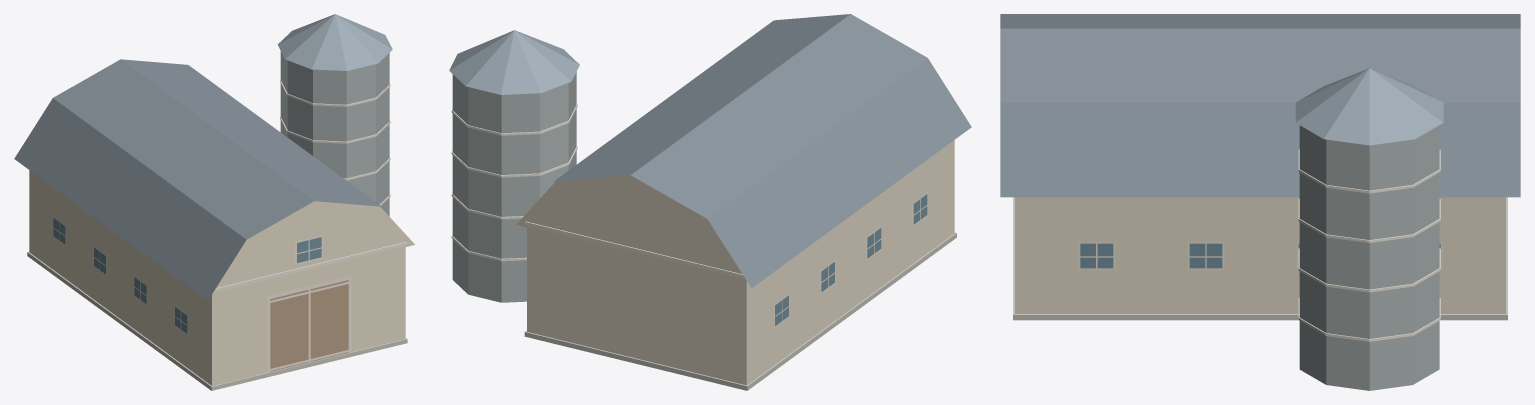
The model's file is barn-with-silo.glb.
3 renders of one model, left to right at view 1: azimuth 30°, elevation 25°; view 2: azimuth 150°, elevation 25°; view 3: azimuth 270°, elevation 25°, orthographic. The views are drawn at different scales.
Parts seen in each view (by area): view 1: barn-with-silo; view 2: barn-with-silo; view 3: barn-with-silo.
Boxes of the visible parts, x1,y1,x2,y2 form: barn-with-silo: (14, 14, 414, 390); barn-with-silo: (449, 14, 971, 390); barn-with-silo: (1000, 14, 1520, 390).
Bounding box in the file's own units: 17.9 × 11.8 × 19.08.
